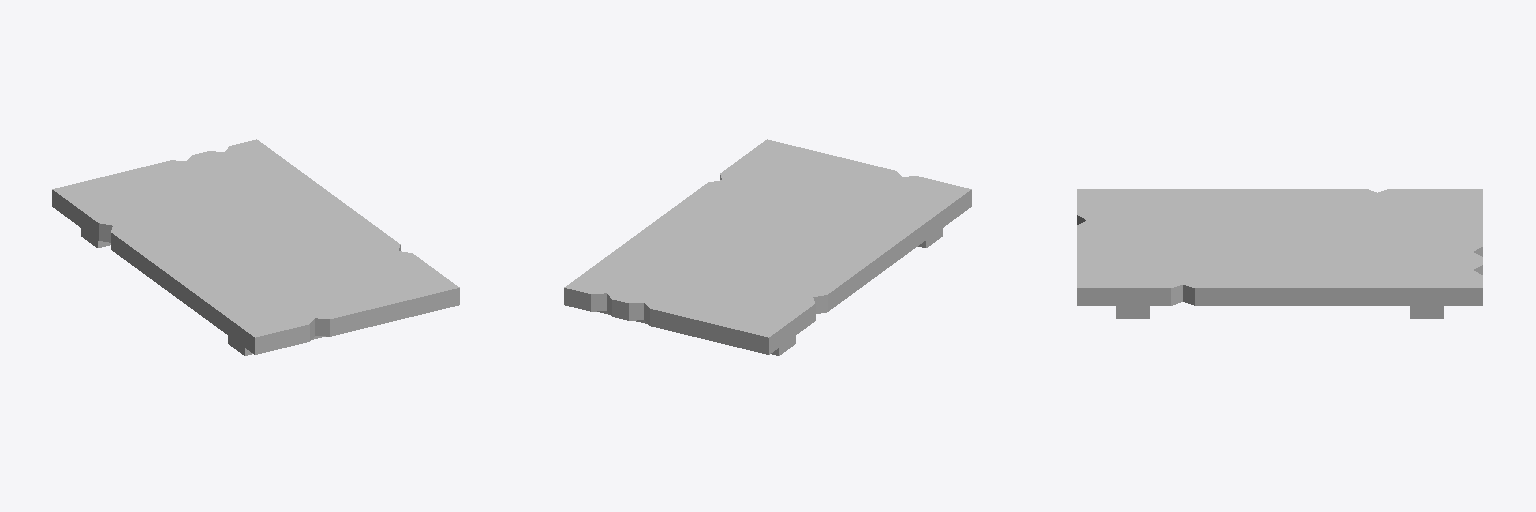
The model's file is cuttingBoardJapanese.obj.
3 renders of one model, left to right at view 1: azimuth 30°, elevation 25°; view 2: azimuth 150°, elevation 25°; view 3: azimuth 270°, elevation 25°, orthographic.
Parts seen in each view (by area): view 1: cuttingBoardJapanese; view 2: cuttingBoardJapanese; view 3: cuttingBoardJapanese.
Boxes of the visible parts, x1,y1,x2,y2 form: cuttingBoardJapanese: [52, 139, 459, 355]; cuttingBoardJapanese: [564, 139, 971, 355]; cuttingBoardJapanese: [1077, 189, 1482, 318].
Bounding box in the file's own units: 0.49 × 0.08 × 0.84.